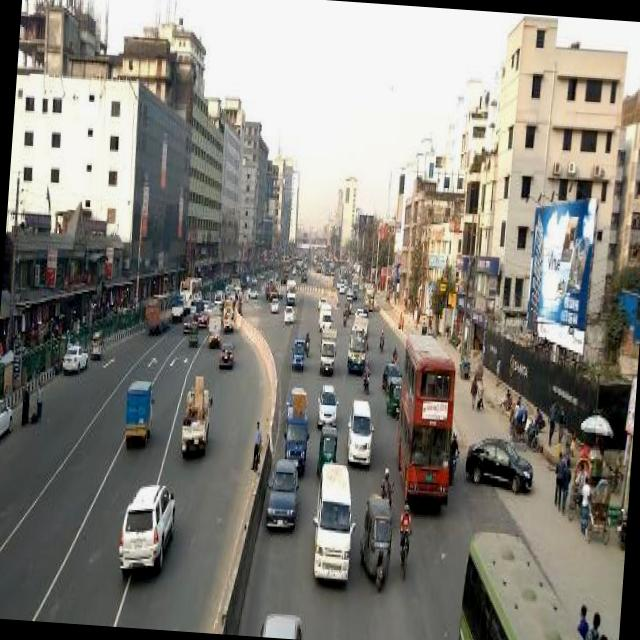bus: (456, 522, 605, 640), (390, 327, 460, 508), (346, 310, 369, 368), (142, 286, 172, 328), (177, 270, 202, 306), (360, 278, 374, 309), (348, 275, 358, 298), (337, 264, 345, 274)
car: (116, 478, 176, 576), (462, 430, 534, 492), (264, 453, 298, 527), (316, 378, 338, 422), (61, 340, 88, 372), (284, 382, 306, 413), (0, 394, 13, 441), (380, 358, 400, 388), (216, 336, 234, 363), (268, 291, 280, 312), (281, 300, 293, 320), (182, 309, 193, 330), (242, 283, 258, 295), (196, 308, 208, 322)
motorcycle: (356, 486, 394, 590), (583, 471, 613, 541), (564, 450, 592, 520), (316, 422, 337, 466), (506, 400, 527, 443), (384, 371, 402, 414), (524, 416, 539, 446), (89, 325, 103, 354), (447, 444, 458, 479), (378, 478, 394, 499), (471, 358, 484, 383), (187, 316, 199, 341), (360, 364, 370, 390), (303, 335, 309, 353), (378, 328, 383, 346), (341, 308, 347, 320)
truck: (308, 458, 356, 586), (178, 382, 210, 456), (121, 373, 153, 447), (343, 393, 374, 463), (280, 410, 308, 464), (318, 323, 336, 372), (290, 332, 305, 366), (206, 306, 220, 342), (316, 297, 332, 324), (219, 304, 234, 330), (170, 291, 183, 318), (283, 275, 296, 300)
